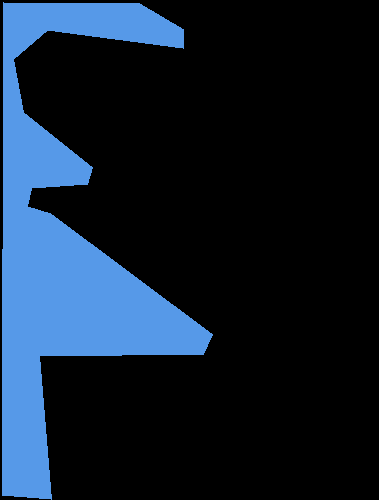Airplane: (2, 2, 213, 500)
